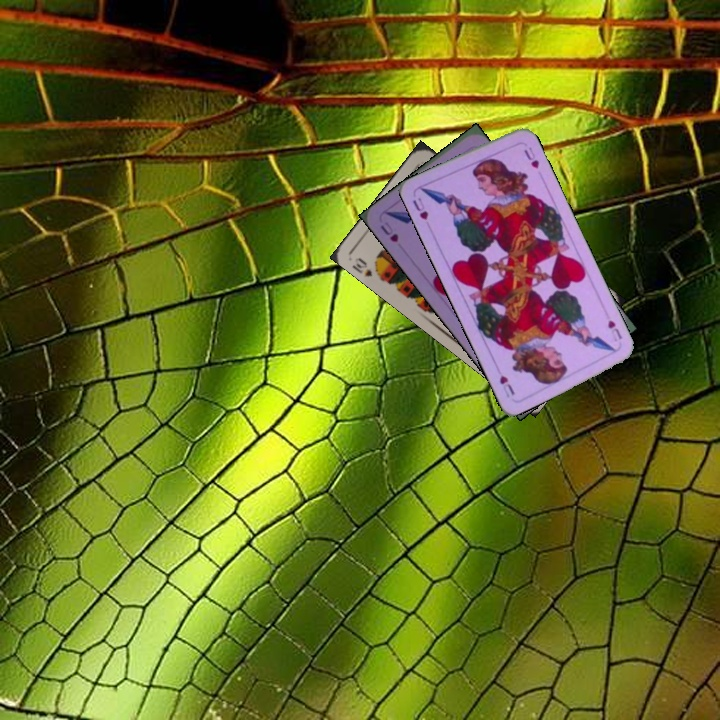HU: (376, 218, 401, 245), (408, 193, 431, 222), (604, 316, 625, 345)
S10: (348, 253, 383, 281)
